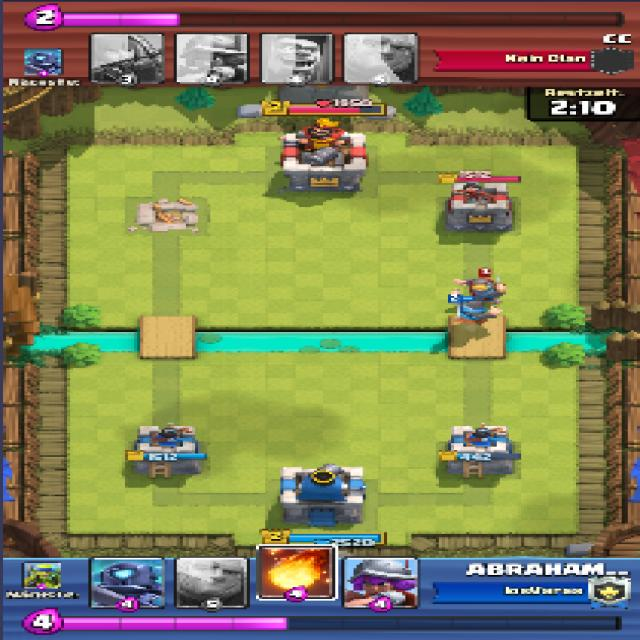Enemy-Knight: (454, 276, 508, 307)
Player-Knight: (452, 302, 499, 326)
